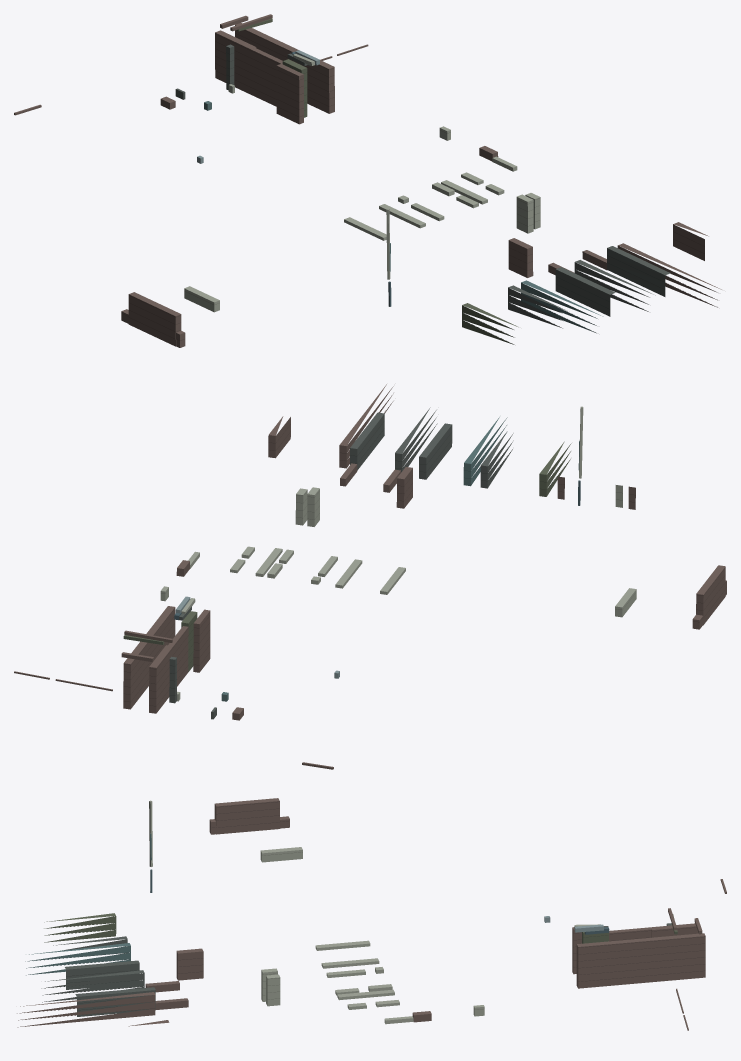
File: terminal-28---125_-17.glb
3 renders of one model, top to bottom at view 1: azimuth 30°, elevation 25°; view 2: azimuth 150°, elevation 25°; view 3: azimuth 270°, elevation 25°, orthographic. The views are drawn at different scales.
Parts seen in each view (by area): view 1: measured-industrial; view 2: measured-industrial; view 3: measured-industrial.
Part boxes in pixels (x1=…): measured-industrial: x1=14, y1=14, x2=721, y2=347; measured-industrial: x1=14, y1=384, x2=726, y2=769; measured-industrial: x1=17, y1=798, x2=726, y2=1030.
Bounding box in the file's own units: 205 × 46.8 × 274.
